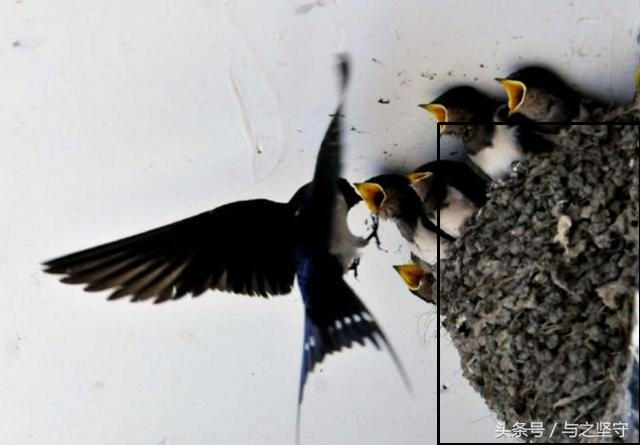bird-nest: (438, 123, 640, 444)
